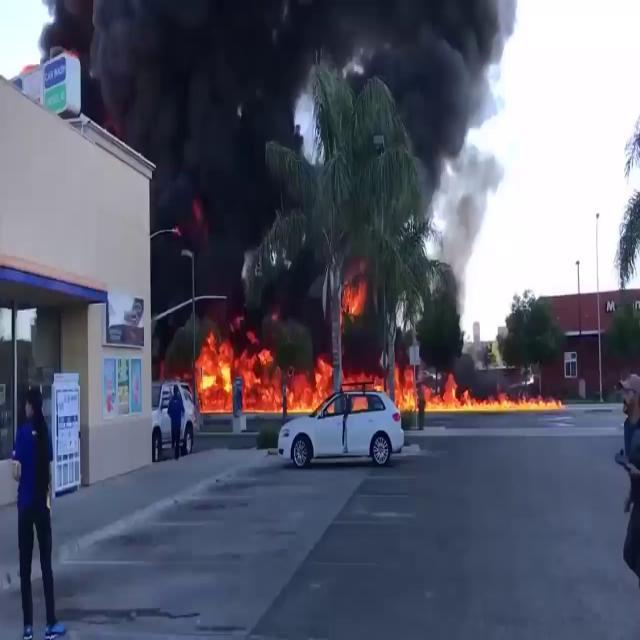Fire: (191, 336, 374, 416), (393, 370, 561, 418)
Smoke: (94, 0, 520, 344)
